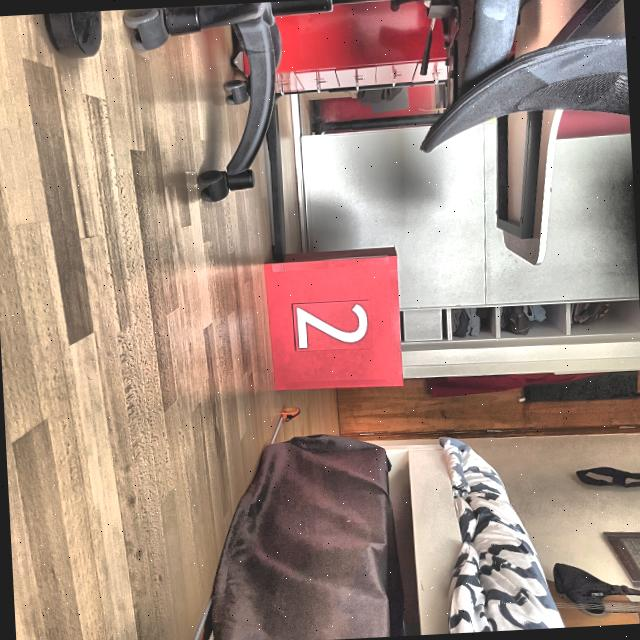red box: (266, 250, 404, 395)
two: (294, 301, 370, 351)
